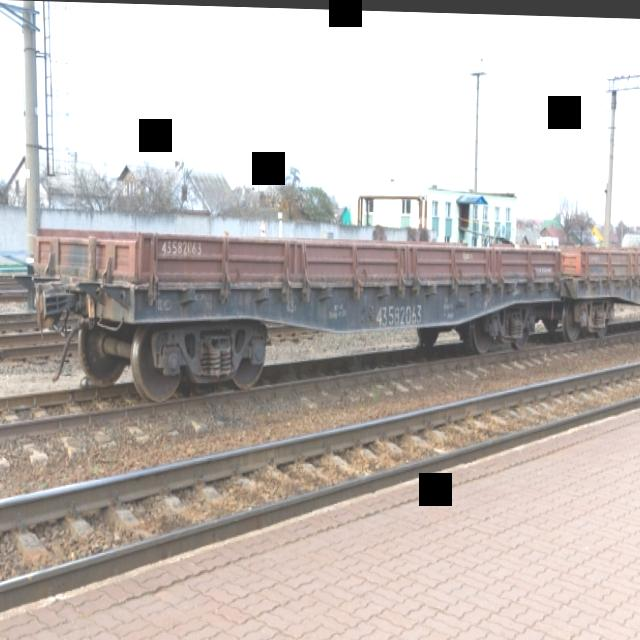flatcar: (31, 260, 562, 430), (562, 274, 640, 336)
